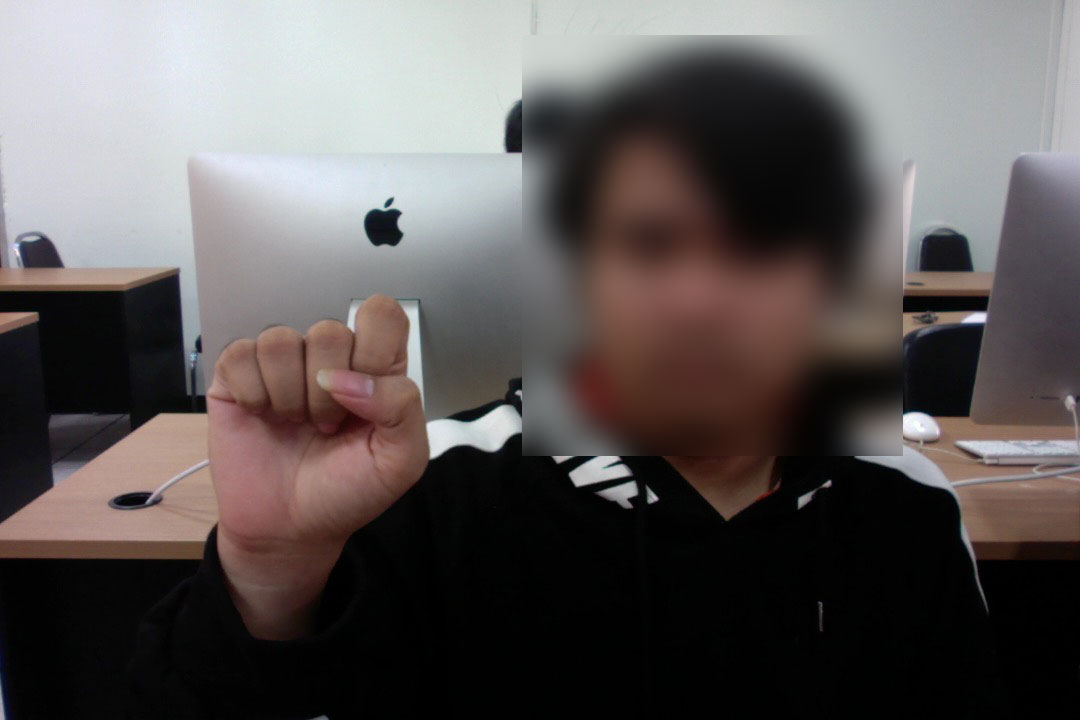sor: (202, 289, 436, 543)
